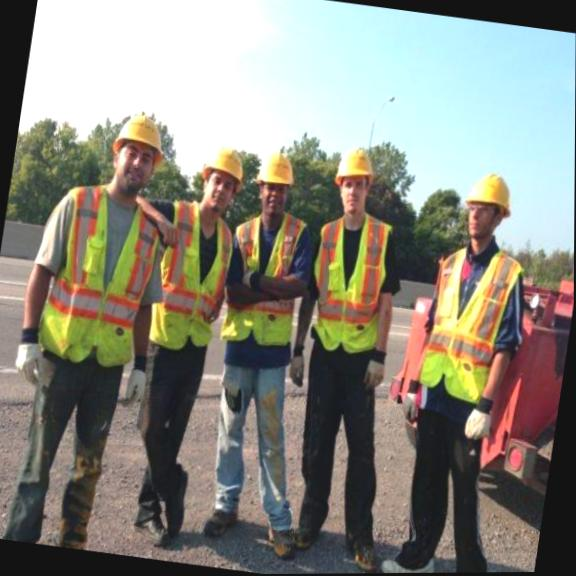safety_vest: (47, 185, 158, 375), (426, 250, 516, 405), (301, 213, 394, 361), (221, 219, 313, 352), (154, 203, 232, 351)
